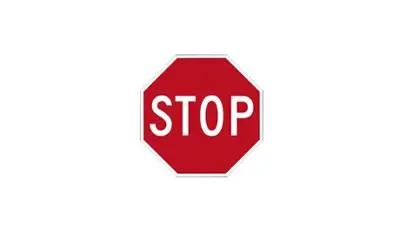Stop: (140, 55, 262, 176)
